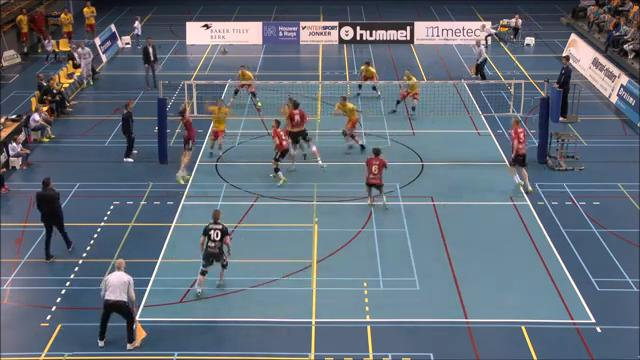attacco: (171, 98, 195, 186)
